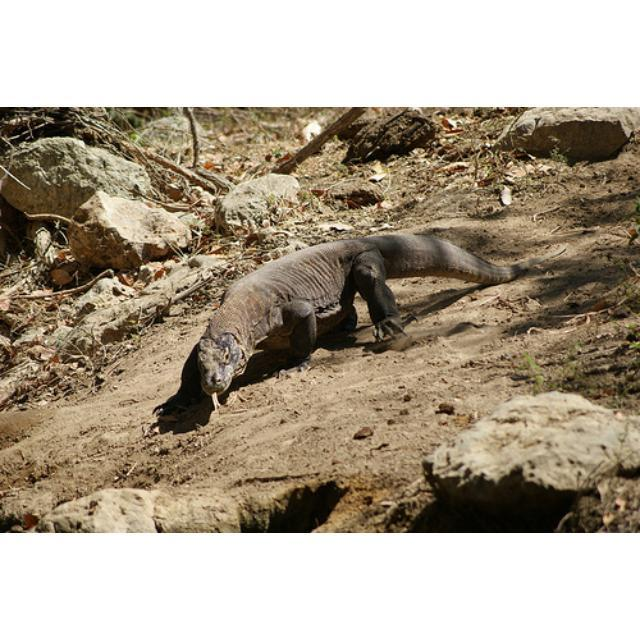KomodoDragon: (191, 234, 567, 414)
